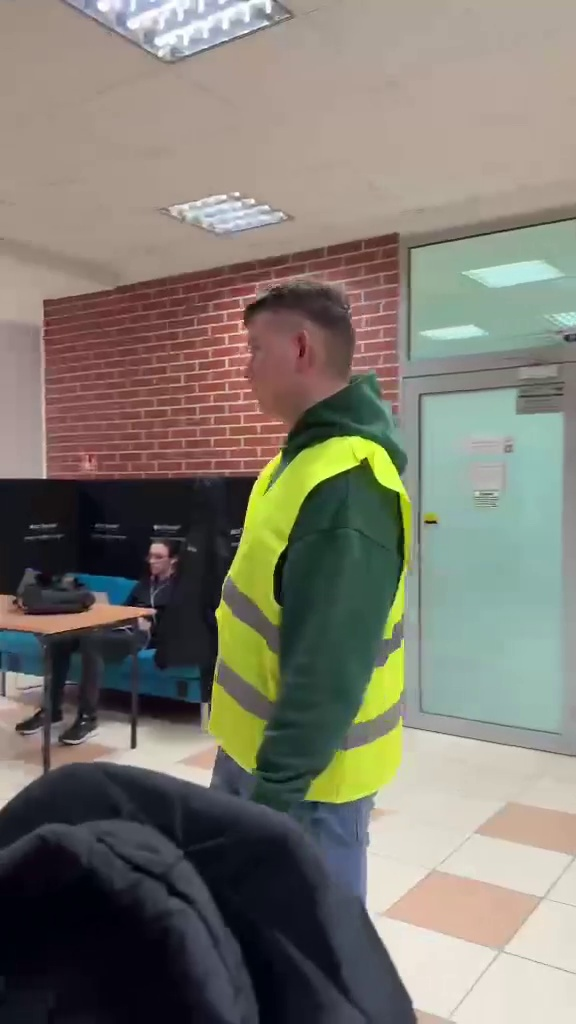no vest: (31, 534, 191, 743)
vest: (214, 270, 425, 1019)
